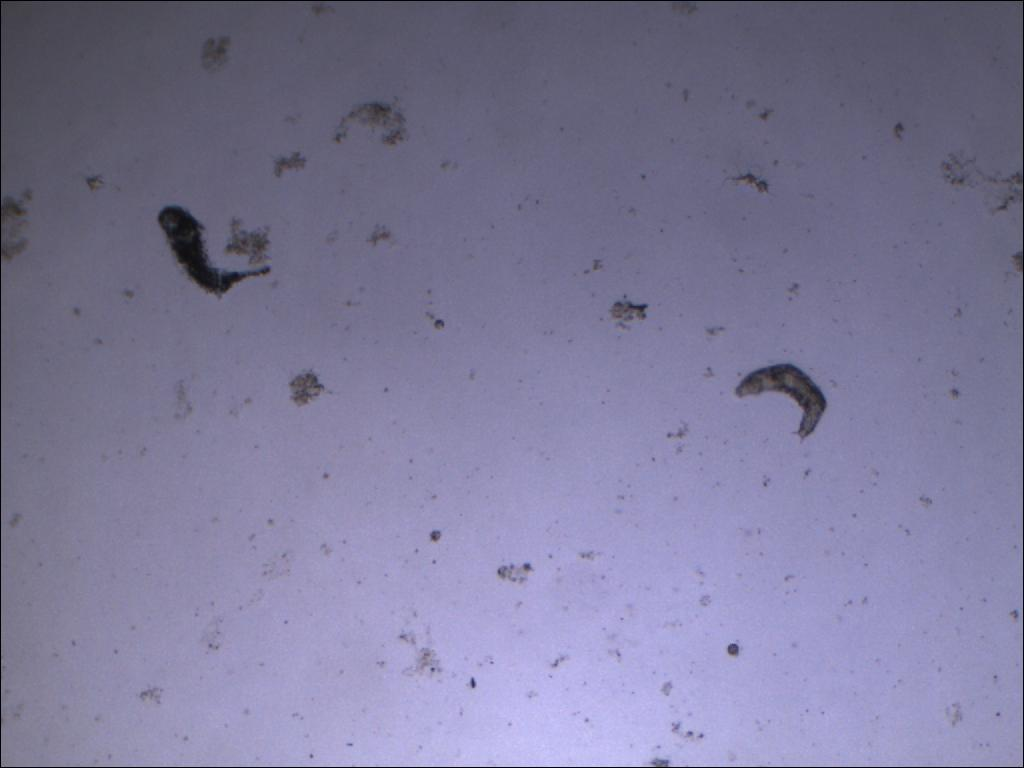amoeba: (152, 196, 272, 300)
